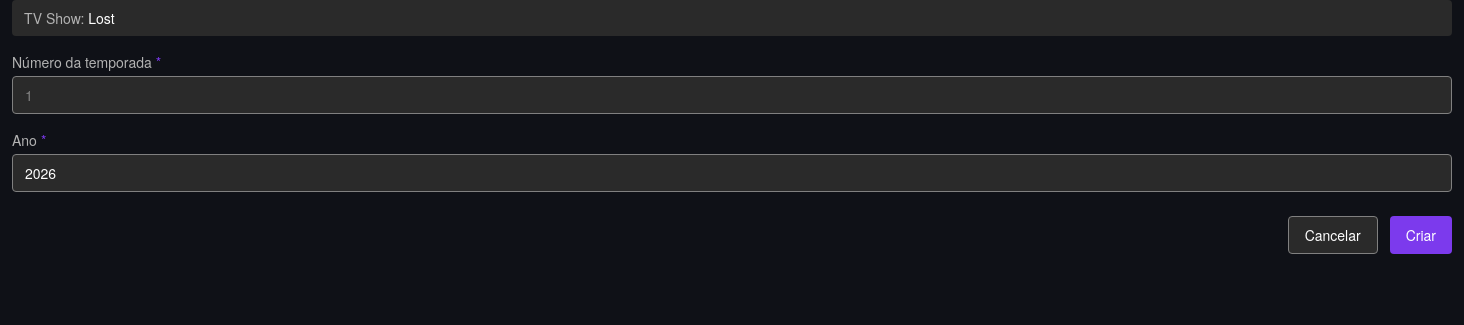
Test: SeasonForm — create mode › shows error when season number is 0
Type "0" into the number field with placeholder "1" at (732, 95), box [12, 76, 1452, 114]
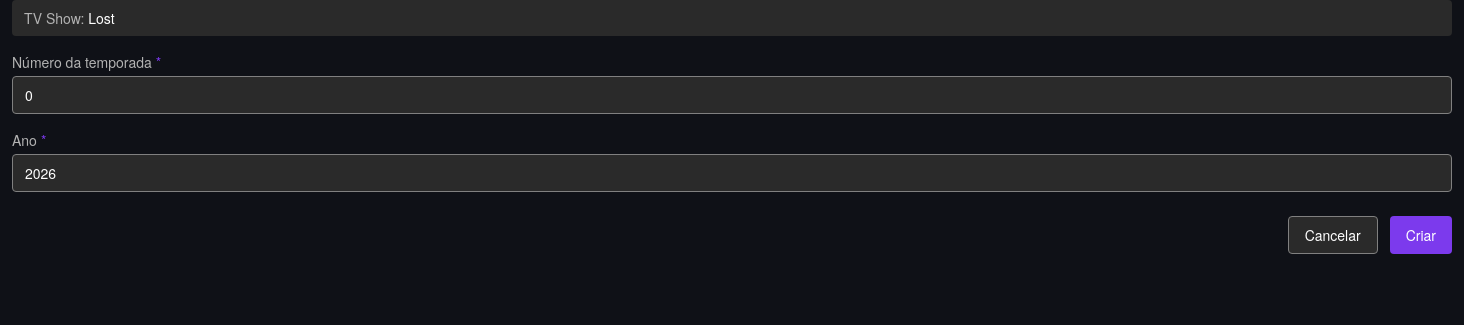
Submit the form
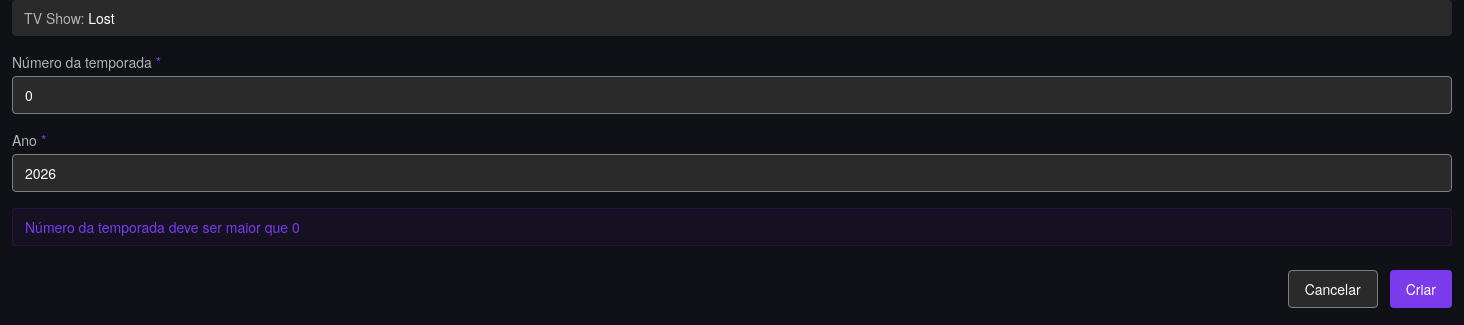
Result: the text "Número da temporada deve ser maior que 0" is shown at [12, 208, 1452, 246]
